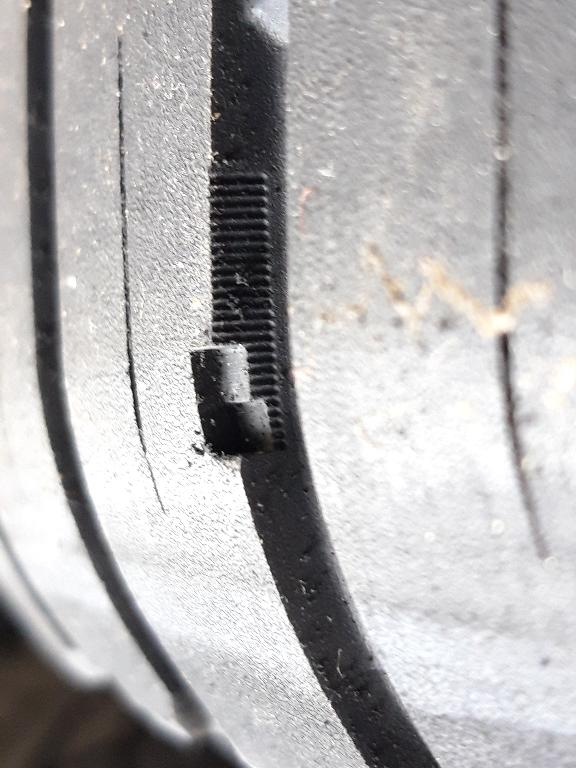temoin:50: (183, 293, 294, 469)
